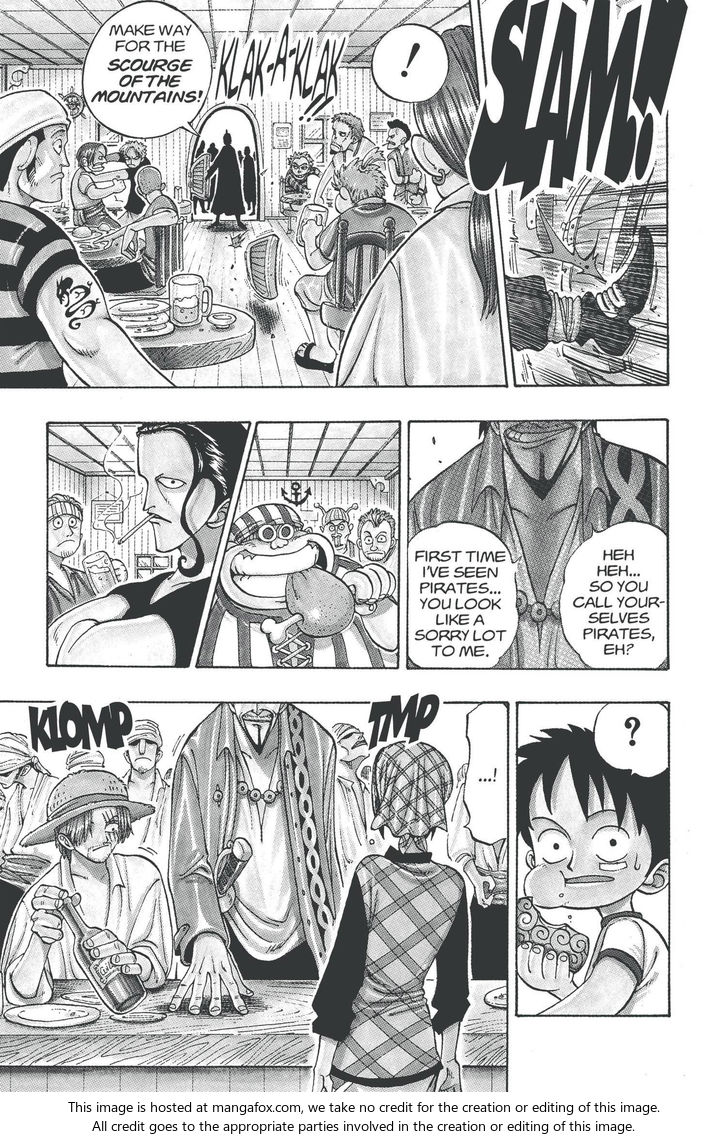bubble: (82, 0, 213, 140), (407, 522, 522, 668), (560, 521, 668, 670), (463, 702, 509, 845), (371, 24, 449, 103), (593, 702, 670, 779)
